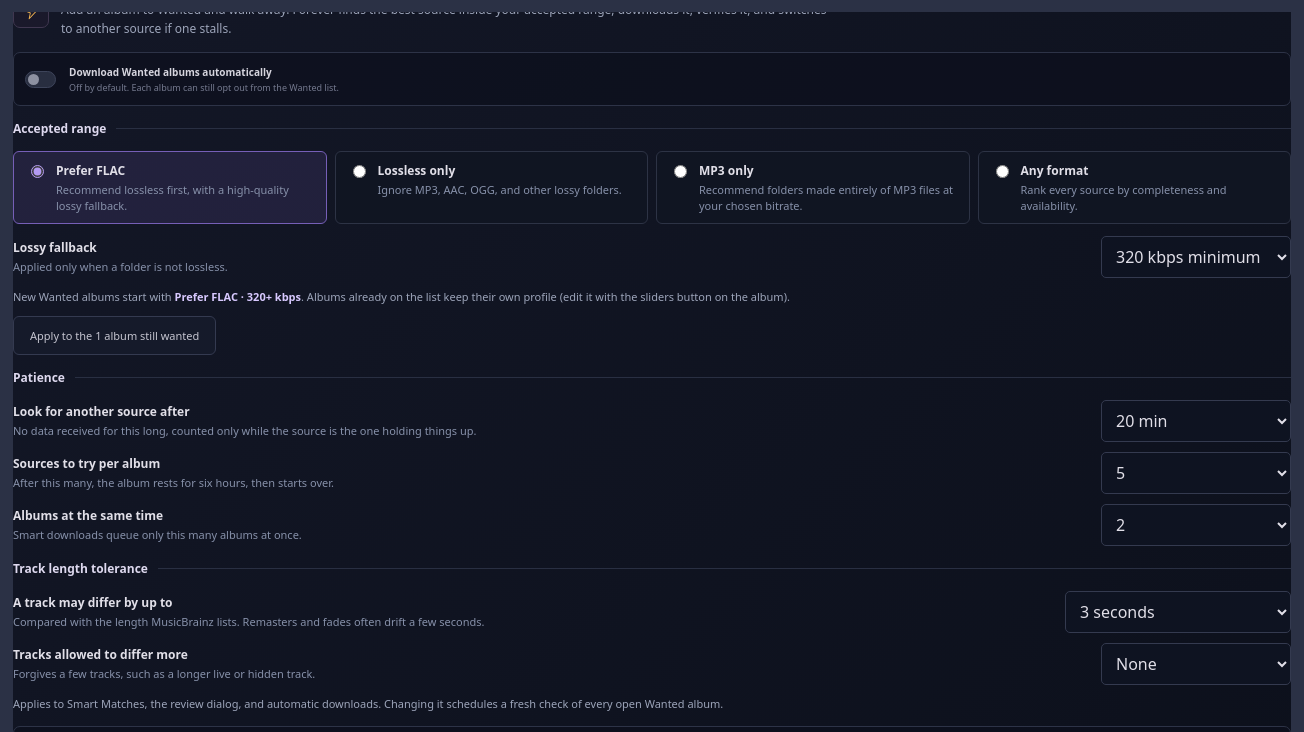
Test: Smart downloads settings › offers no bulk apply when nothing is waiting, and shows a failure
(page scrolled)
Click the button "Apply to the 1 album still wanted": (115, 335) [13, 316, 216, 355]
(page scrolled)
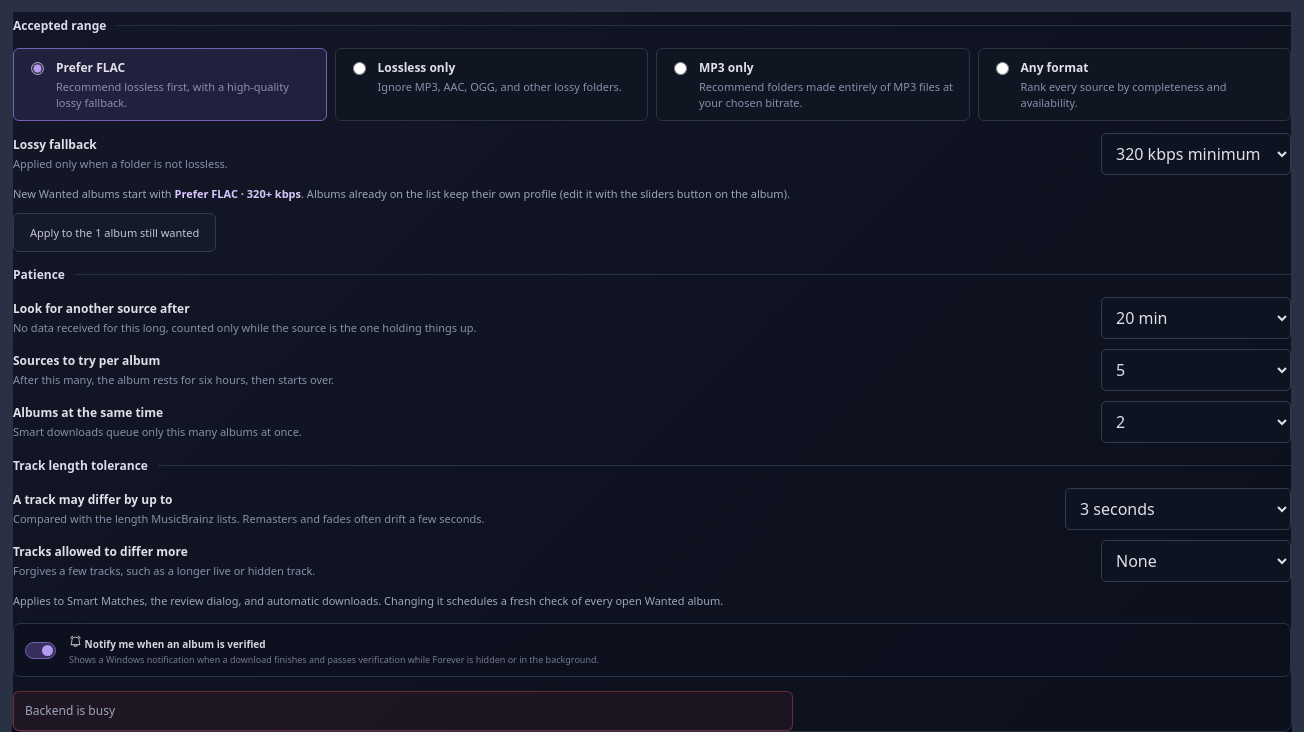
Check: the message reads "Backend is busy", box [25, 702, 115, 719]
